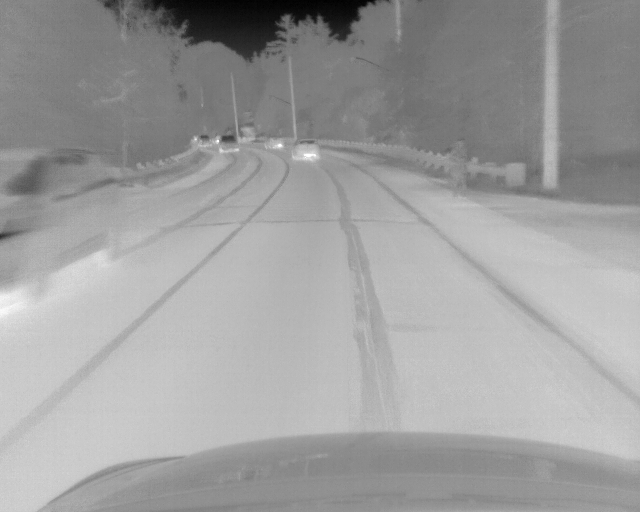bike: (446, 165, 470, 195)
car: (1, 146, 129, 309), (290, 138, 319, 162), (219, 134, 239, 152), (262, 136, 284, 149), (197, 134, 210, 149)
people: (452, 137, 467, 176)
